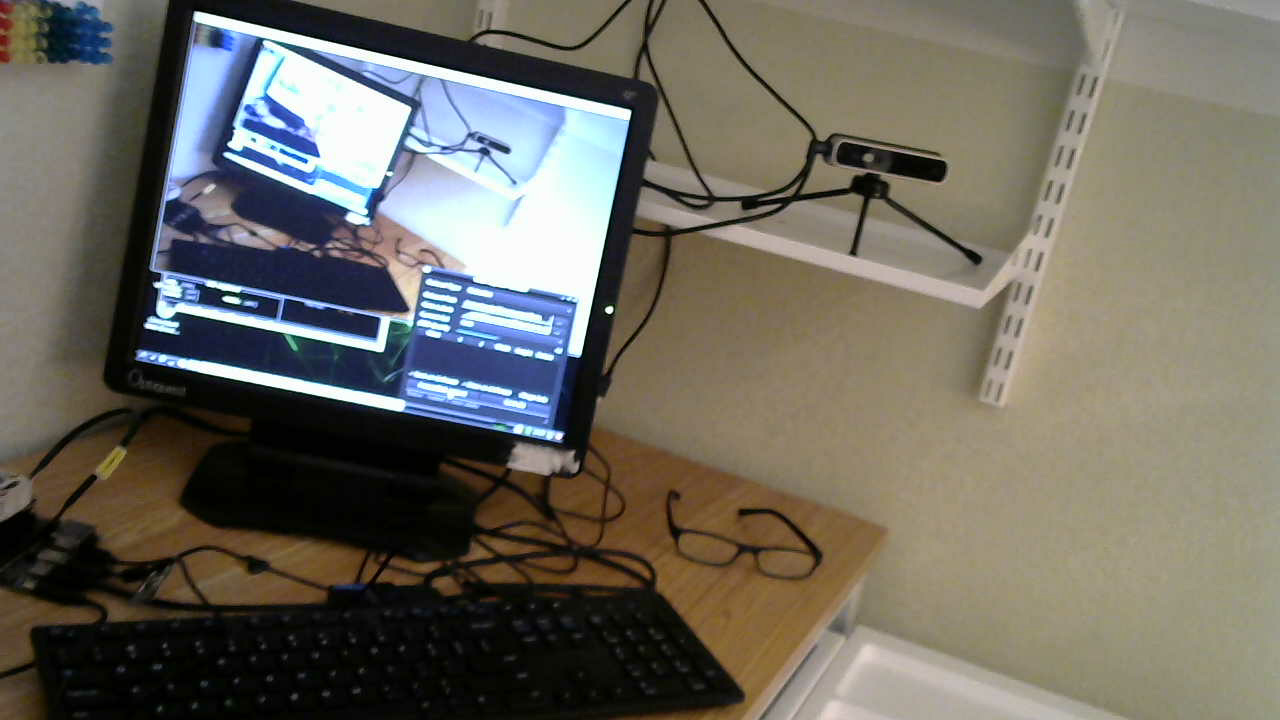Glasses: (660, 484, 837, 588)
